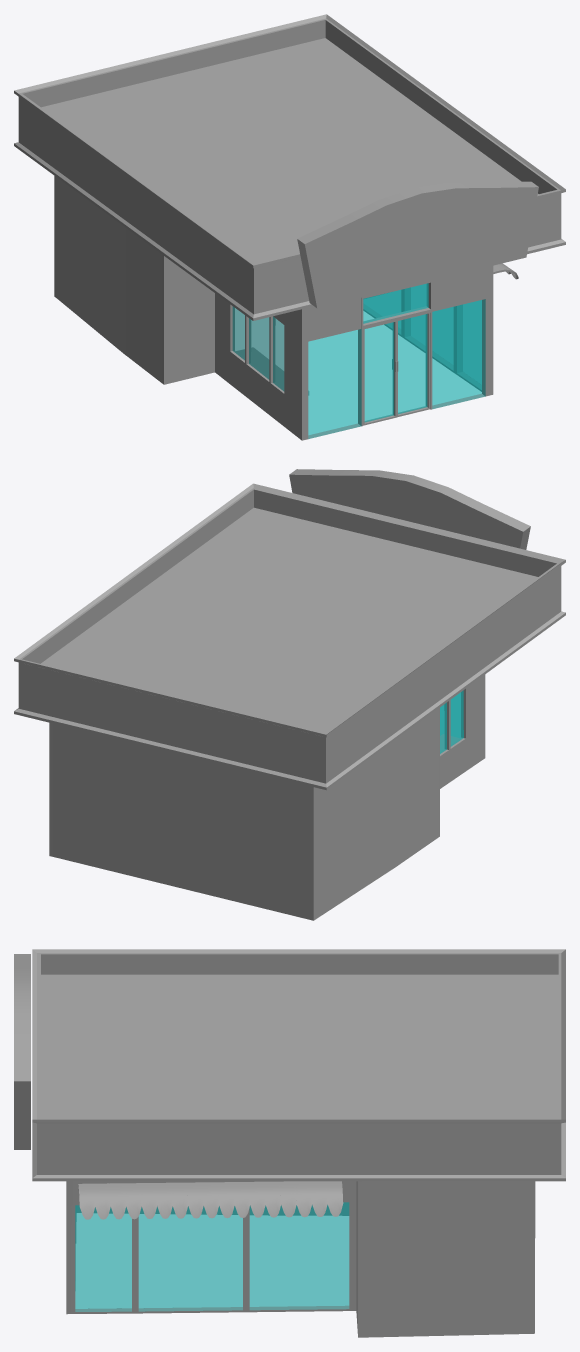
File: Shawarma_building.fbx
3 views of the same model, one above another, from view 1: azimuth 30°, elevation 25°; view 2: azimuth 150°, elevation 25°; view 3: azimuth 270°, elevation 25° (orthographic). The views are drawn at different scales.
Visible parts, largest first — view 1: Roof, Shawarma_building, Tzadok_sign, Front_door_left, Front_door_right; view 2: Roof, Shawarma_building, Tzadok_sign; view 3: Roof, Shawarma_building, Rain_thingy, Tzadok_sign.
Part boxes in pixels (x1,y1,x2,y2): Roof: (14,14,565,320); Shawarma_building: (54,176,493,440); Tzadok_sign: (297,181,538,308); Front_door_left: (393,312,430,417); Front_door_right: (363,321,396,425); Roof: (14,483,565,790); Shawarma_building: (49,674,485,920); Tzadok_sign: (289,469,530,549); Roof: (32,949,565,1181); Shawarma_building: (66,1181,535,1337); Rain_thingy: (78,1181,343,1219); Tzadok_sign: (14,954,30,1149).
Bounding box in the file's own units: 23.7 × 17.5 × 32.48.
